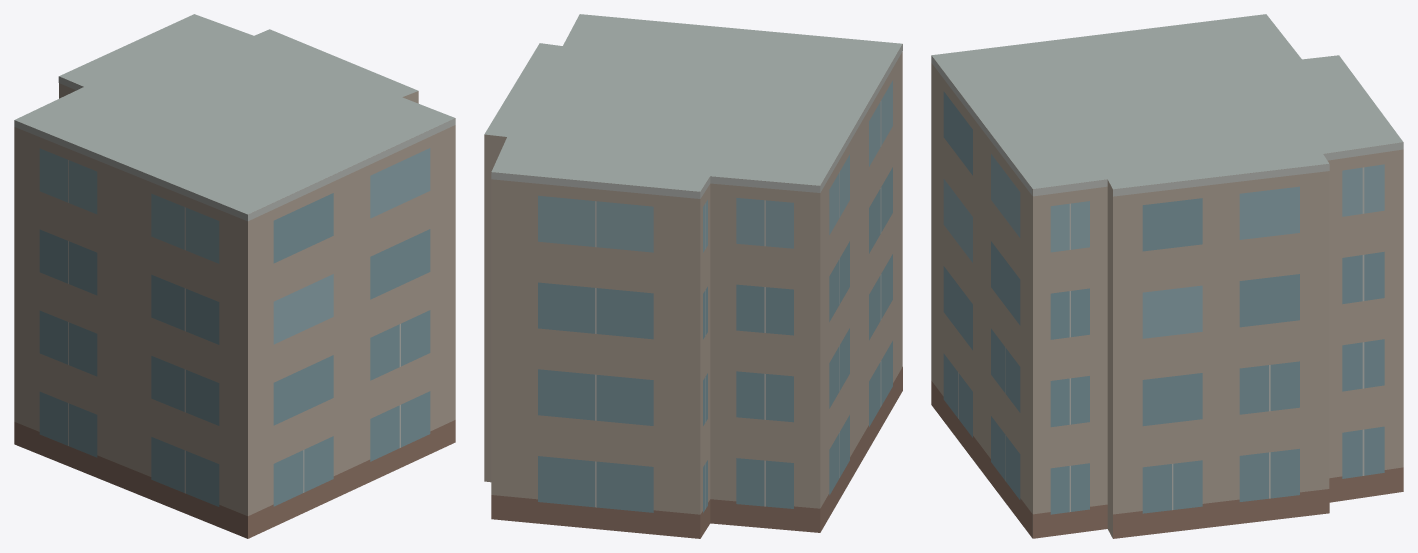
The model's file is survey-upis-32611808.glb.
3 renders of one model, left to right at view 1: azimuth 30°, elevation 25°; view 2: azimuth 150°, elevation 25°; view 3: azimuth 270°, elevation 25°, orthographic. The views are drawn at different scales.
Parts seen in each view (by area): view 1: survey-upis-32611808.tmp; view 2: survey-upis-32611808.tmp; view 3: survey-upis-32611808.tmp.
Boxes of the visible parts, box(x1,y1,x2,y2) form: survey-upis-32611808.tmp: box(14, 14, 455, 538); survey-upis-32611808.tmp: box(484, 14, 902, 538); survey-upis-32611808.tmp: box(931, 14, 1403, 538).
Size of the model in its own units: 12.6 by 11.7 by 14.33.
